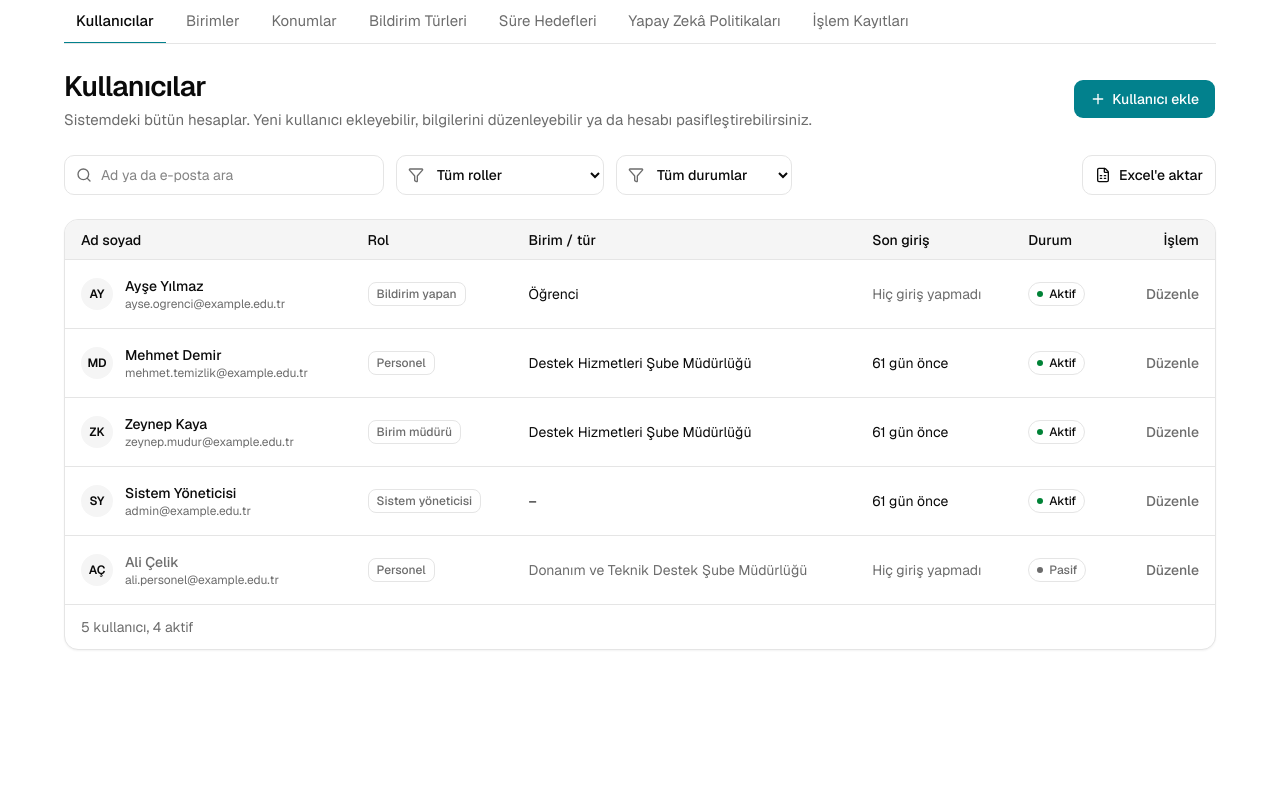
Test: UsersScreen › deactivates a user from the edit panel
Click the button with aria-label "Mehmet Demir kullanıcısını düzenle": (1172,363) [1138,341,1207,385]
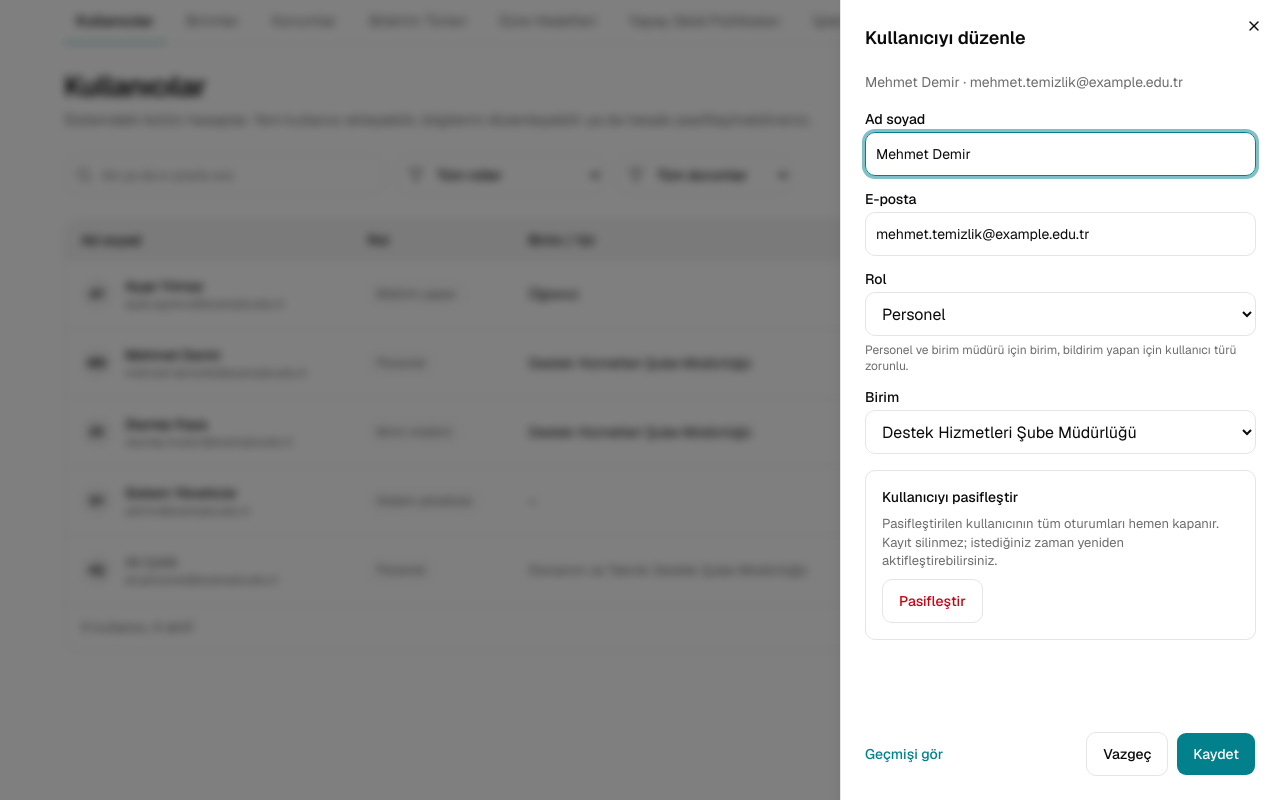
Click the button "Pasifleştir": (932,601) [882,579,983,623]
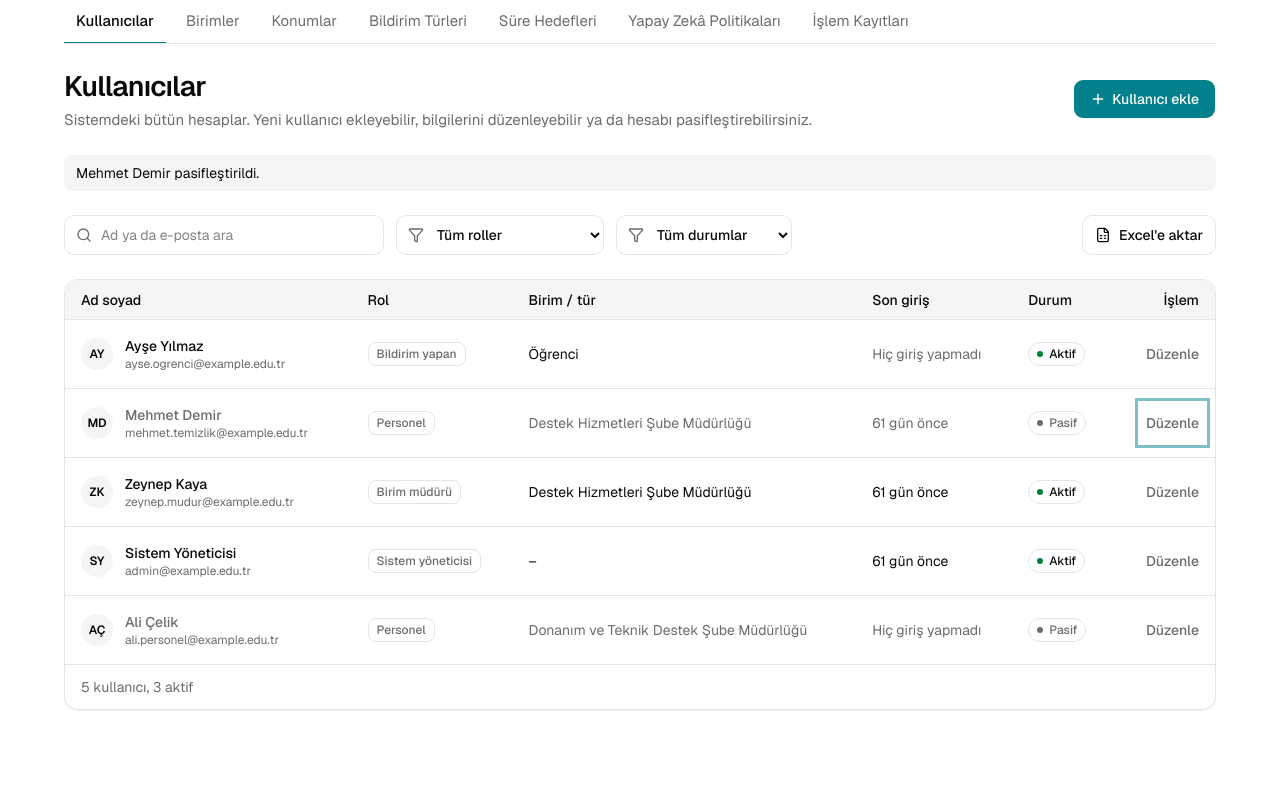
Result: the dialog is gone
Result: the text "Pasif" is shown at [1028,411,1086,435]
